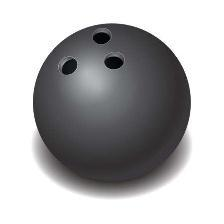Sports-Ball: (30, 18, 195, 187)
